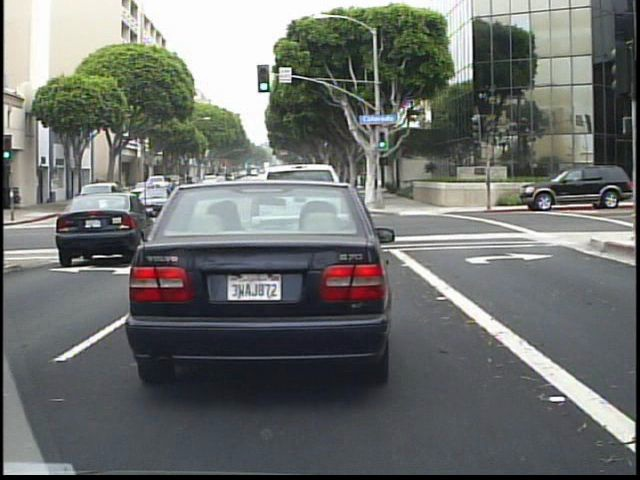person: (86, 175, 103, 211)
